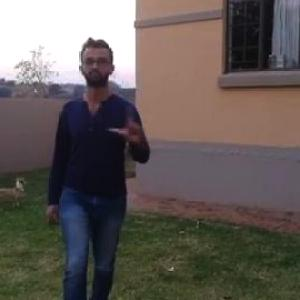land_hand: (107, 98, 149, 146)
